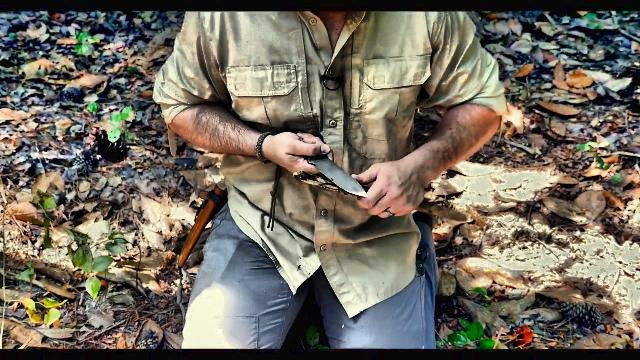knife: (290, 129, 370, 201)
